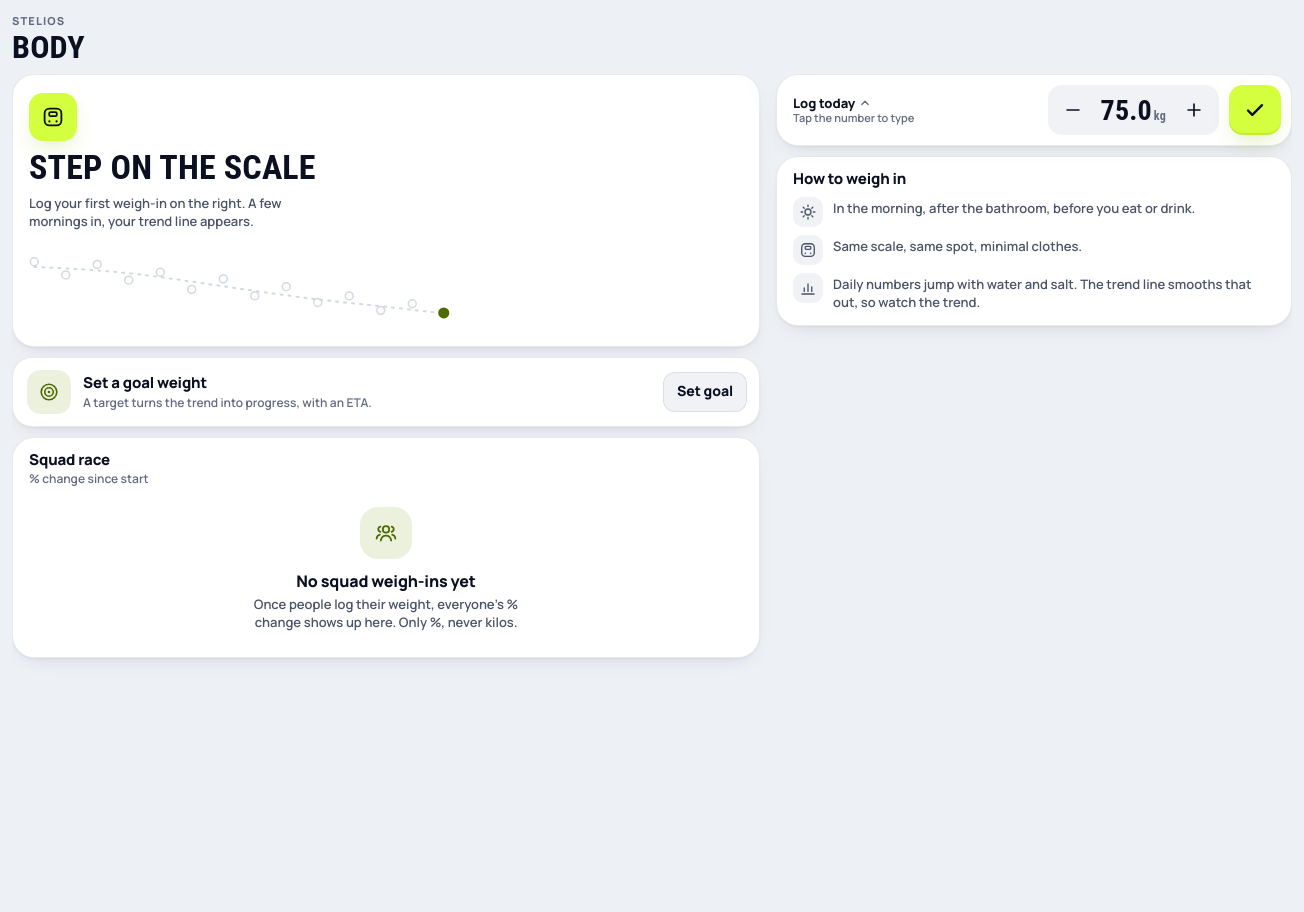
Test case: BodyPage › guides a brand-new member and logs the first weigh-in from the dock
Check: the heading "Step on the scale" is shown, box [29,151,316,184]
Check: the heading "Set a goal weight" is shown, box [83,372,207,393]
What coordinates should you click on to do the following:
click the button named "Save weight"
I would click on:
 (1255, 110)
Its box is [1229,85,1281,135].
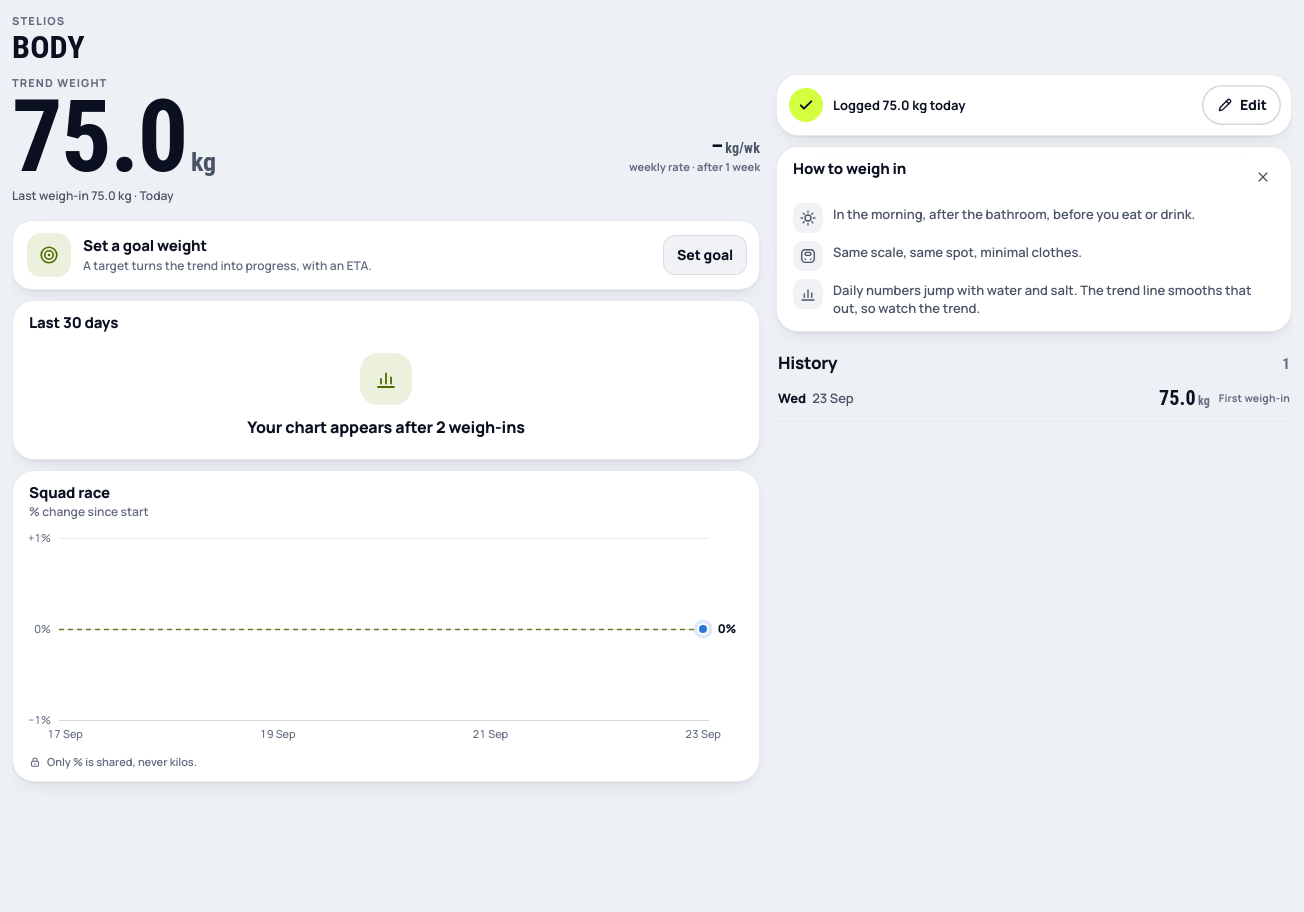
Check: the text "Logged 75.0 kg today" is shown, box [833,96,966,114]
